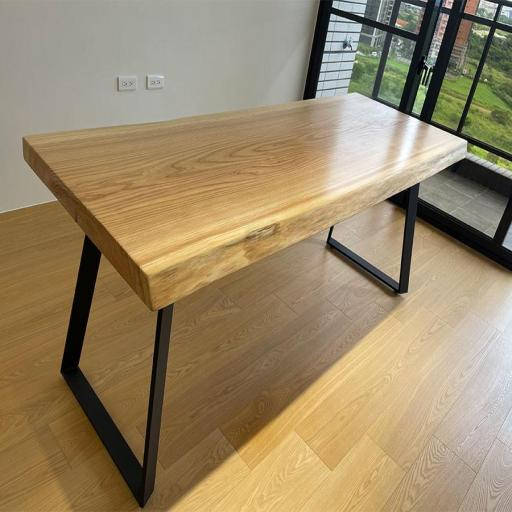table: (28, 94, 450, 442)
